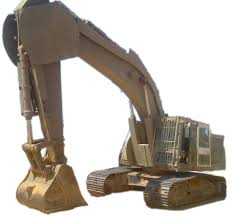excavator: (3, 4, 226, 212)
